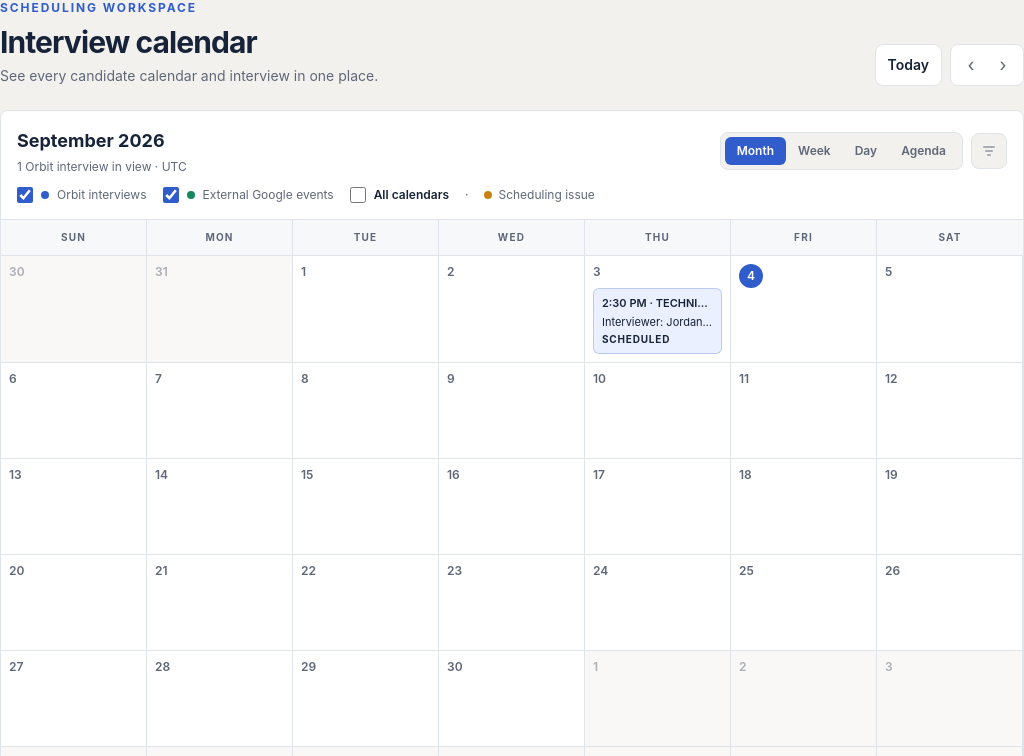
Test: CalendarWorkspace › switches to the agenda view and opens event details
Click the button "Agenda": (924, 151) [889,137,958,165]
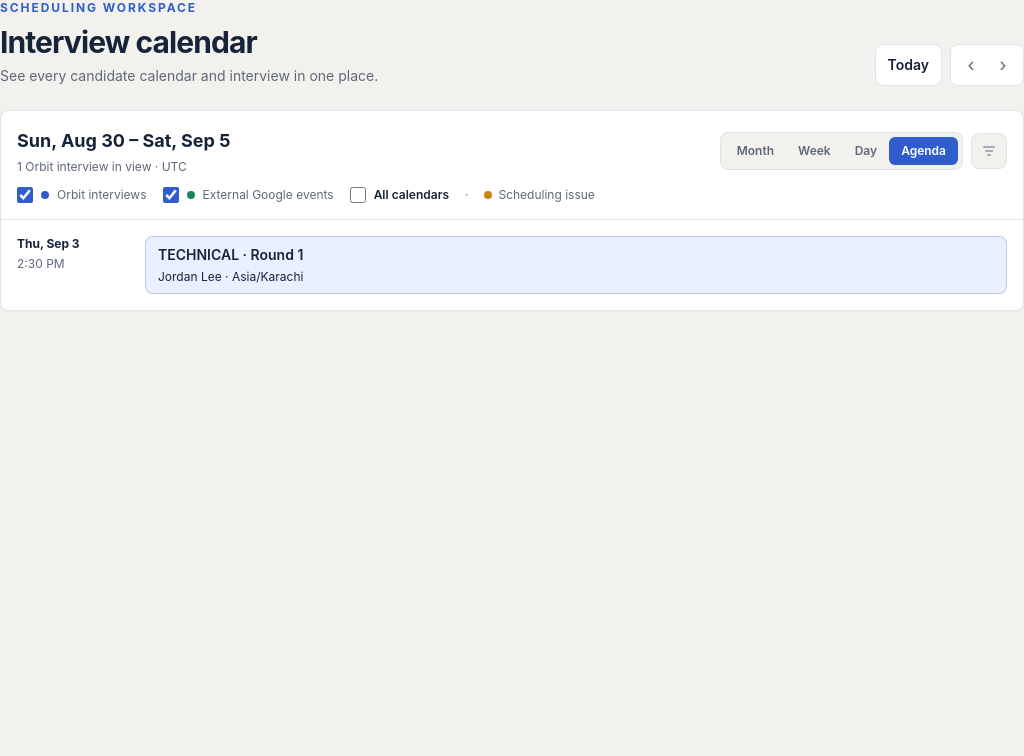
Click the button with test id "calendar-event": (512, 265) [1,220,1023,310]
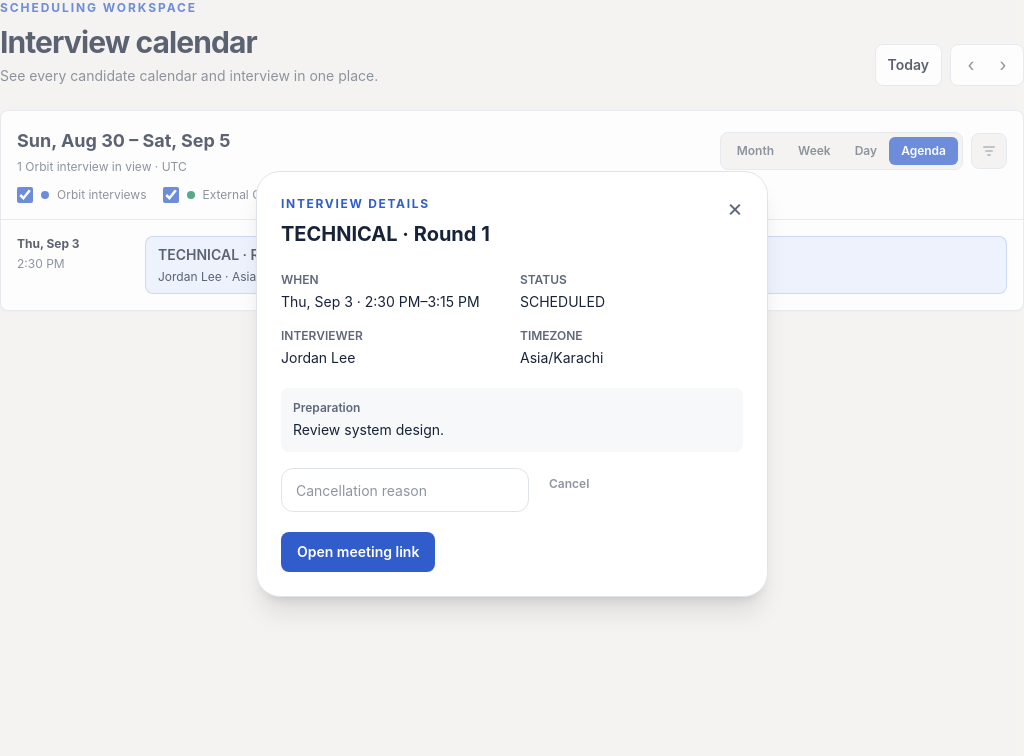
Expected: the text "Jordan Lee" is shown, [158,269,222,284]
Expected: the text "Interview details" is shown, [281,196,430,211]
